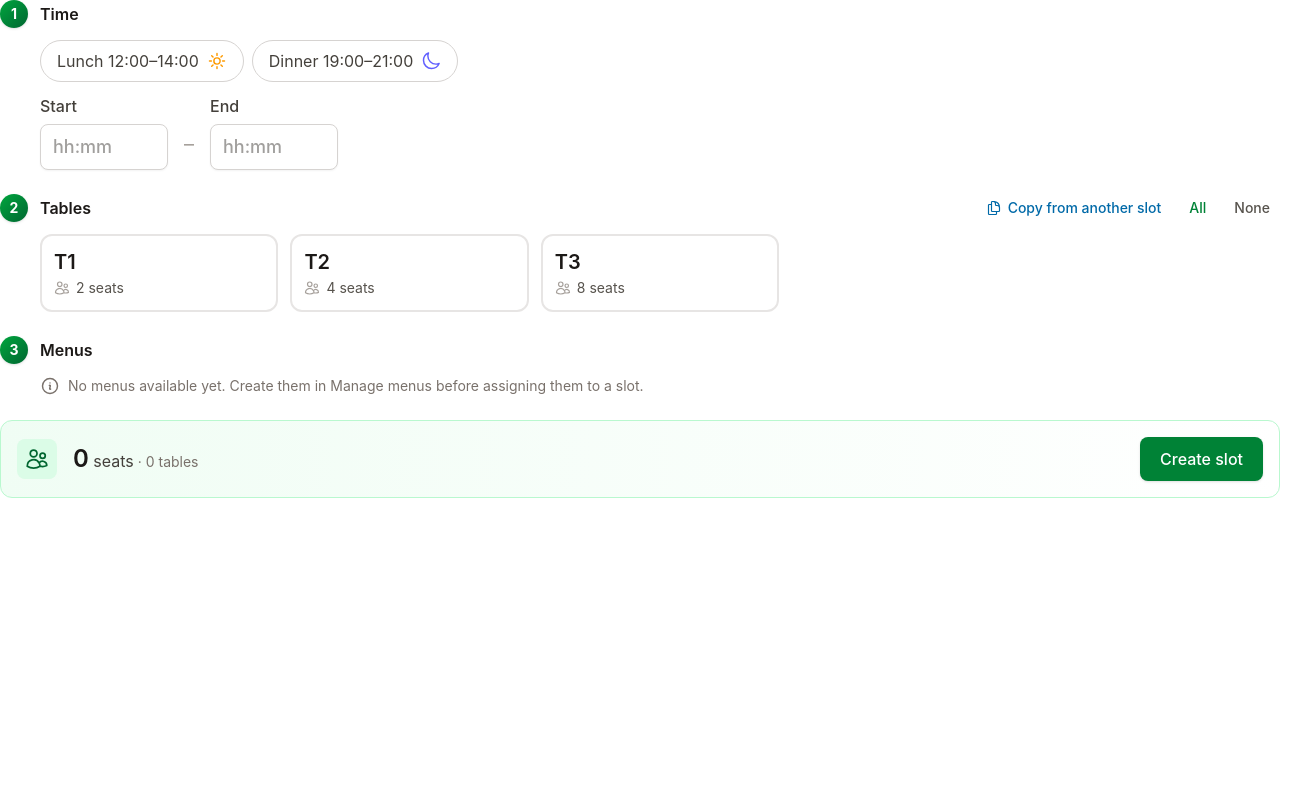
Test case: CreateSlotForm › copying tables from another slot › does not let you copy from a slot without tables
Click the button "Copy from another slot" at {"x": 1073, "y": 208}, box [976,194,1171,222]
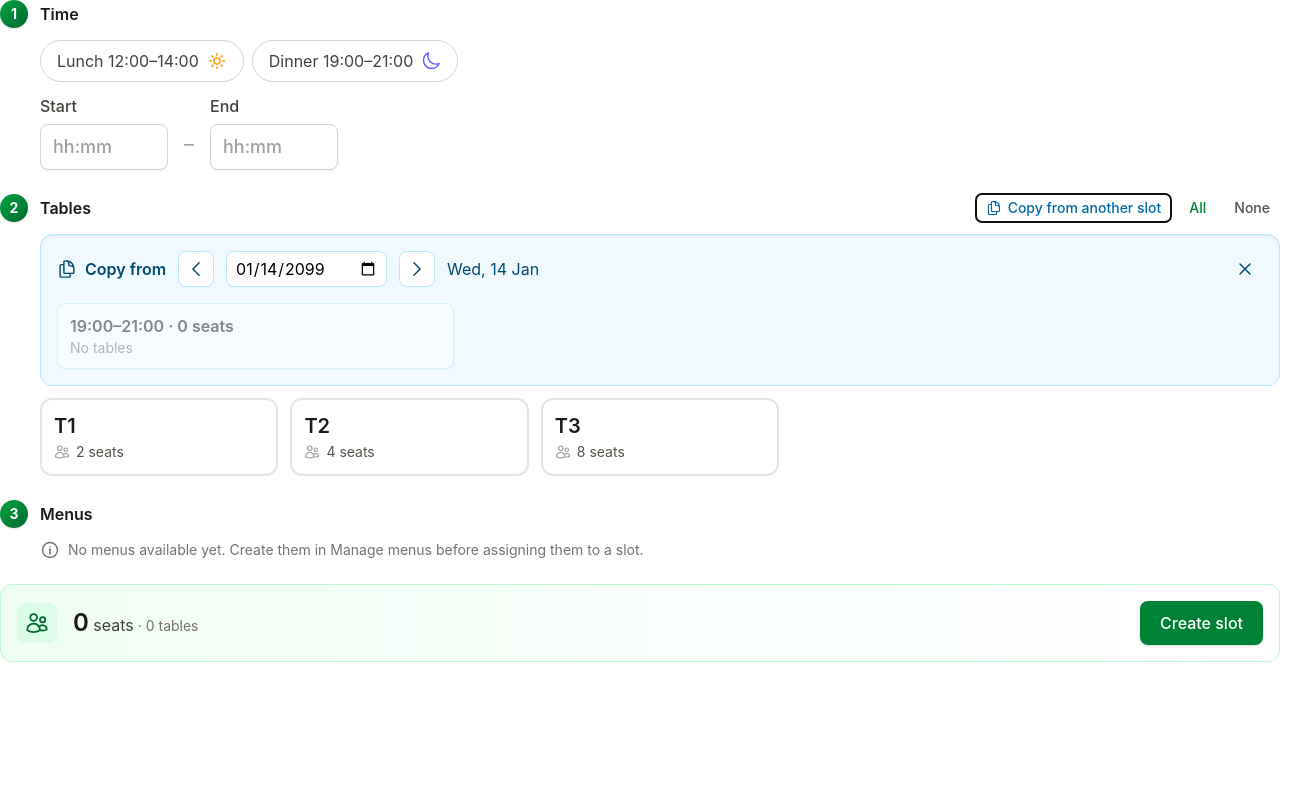
Check: the button "19:00–21:00 · 0 seats No tables" is disabled, box [57,303,454,369]
